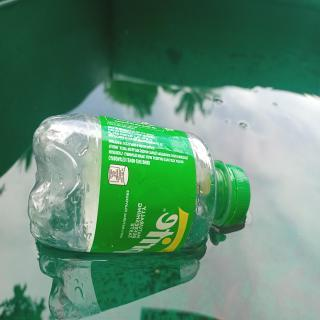bottle: (27, 110, 252, 254)
